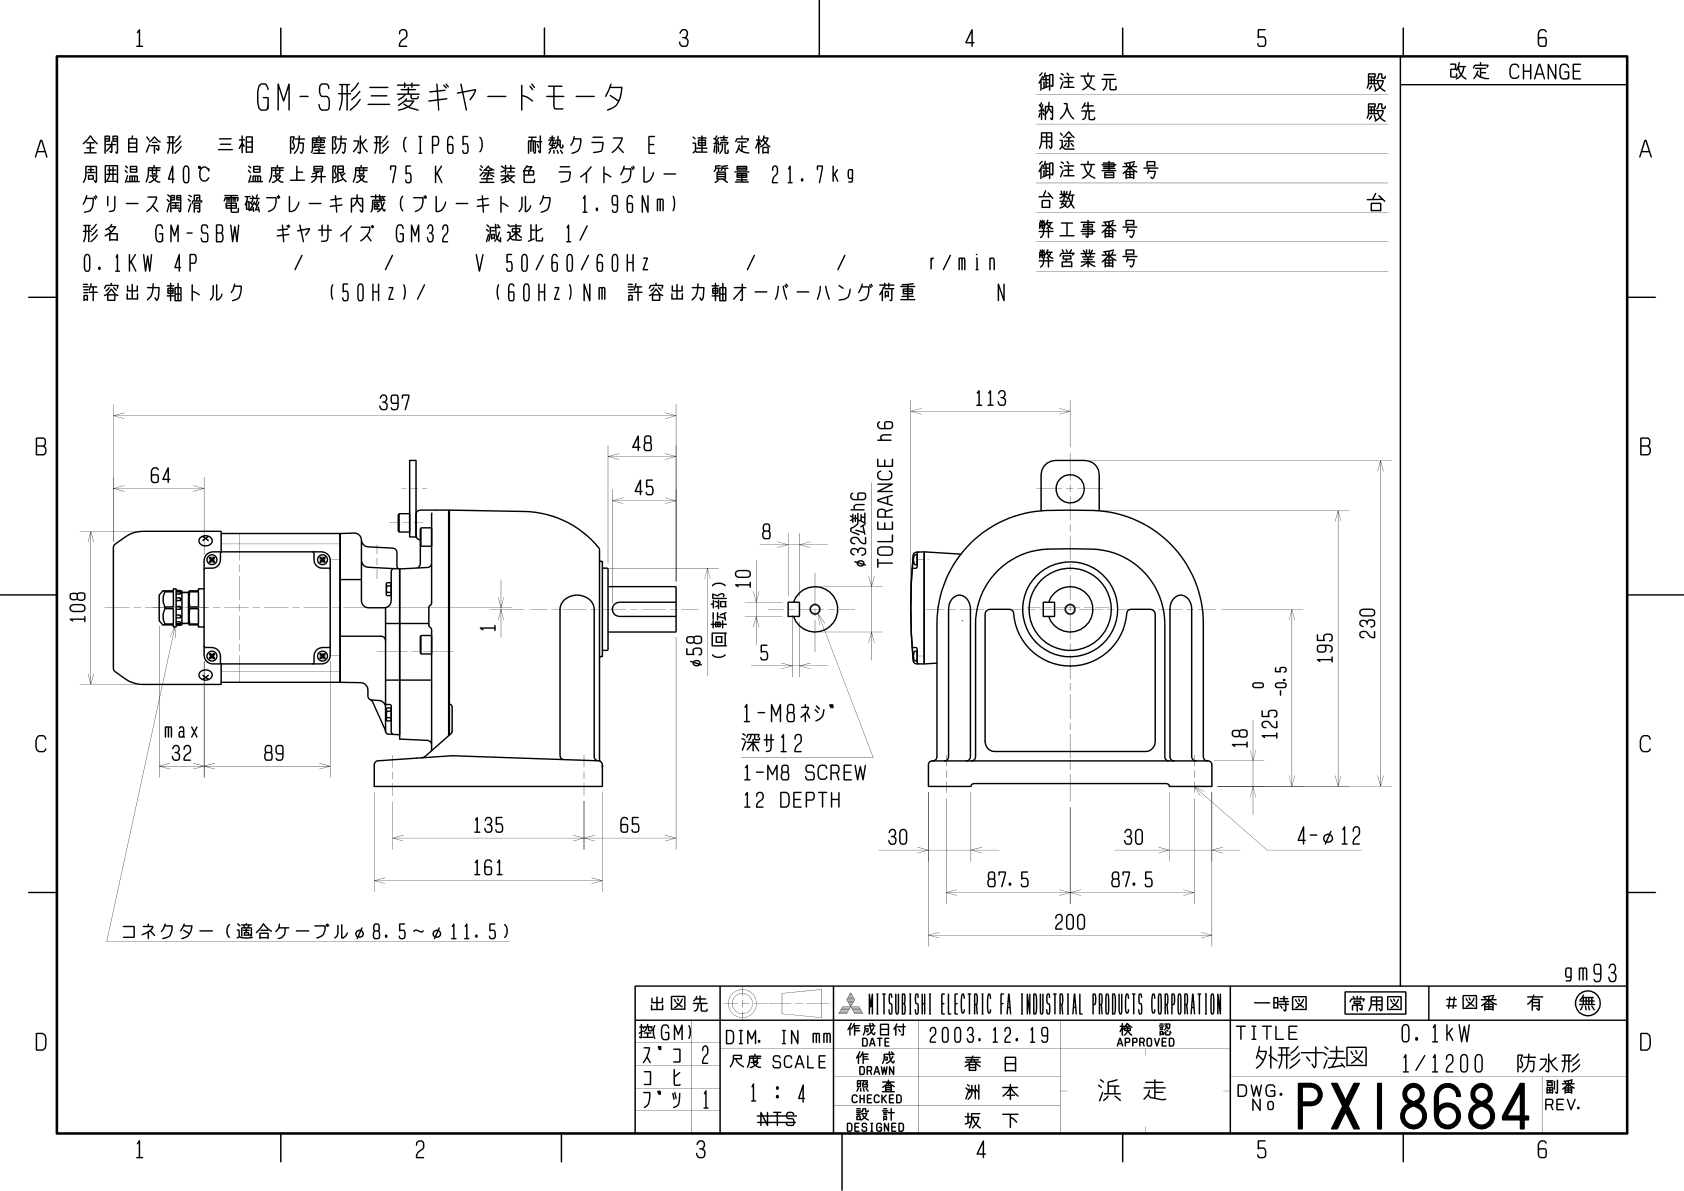GM_S_IP65＿三相_脚: (1, 1, 1678, 1172)
